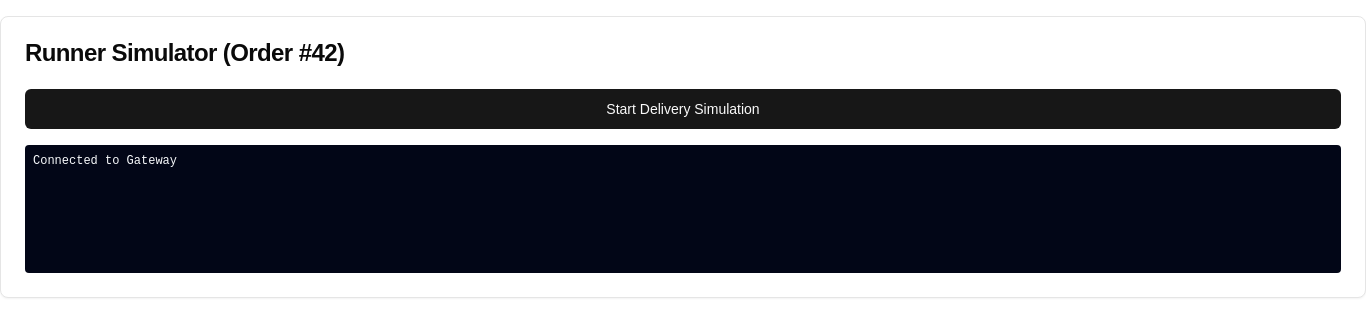
it: RunnerSimulator › joins the order room and emits simulated runner positions
Check: the text "Connected to Gateway" is shown, box [33,154,177,168]
Click the button "Start Delivery Simulation". click: click(683, 109)
box: [25,89,1341,129]
Wait 10200 ms
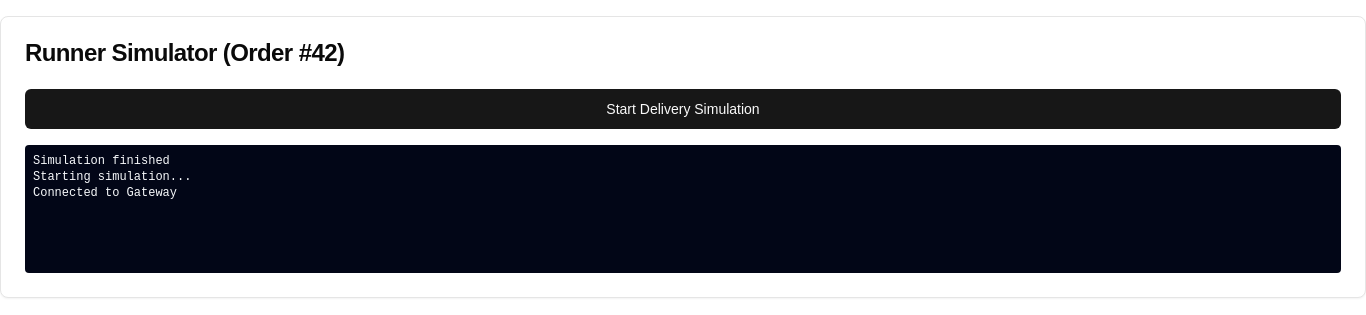
Check: the text "Simulation finished" is shown, box [33,154,170,168]
